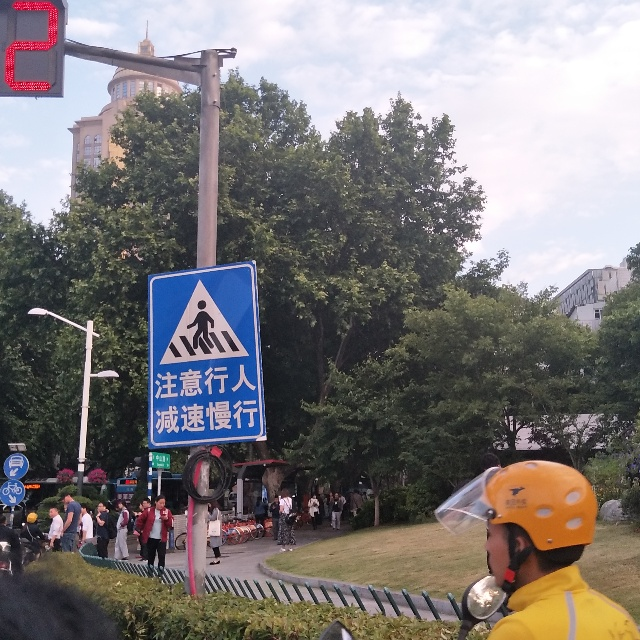crosswalk: (152, 275, 252, 366)
